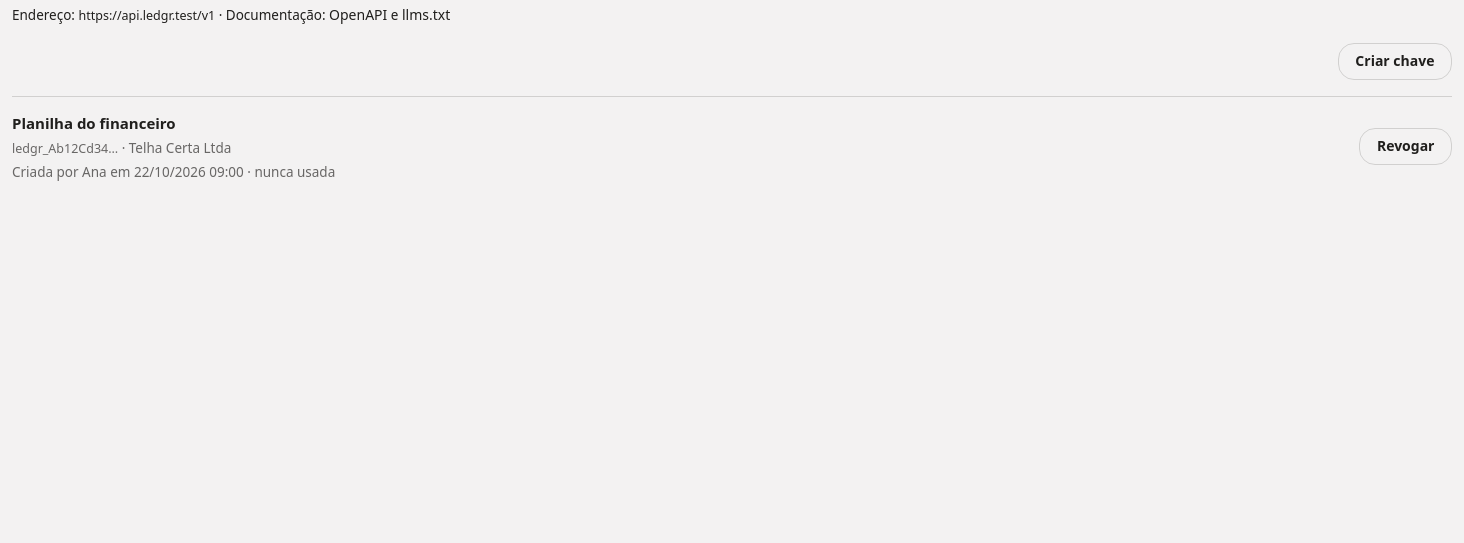
it: PainelDeChavesApi › sem permissão de copiar, deixa a chave selecionada e diz para usar Ctrl+C
Click the button "Criar chave": [1395, 61] box top-left (1338, 43), bottom-right (1452, 80)
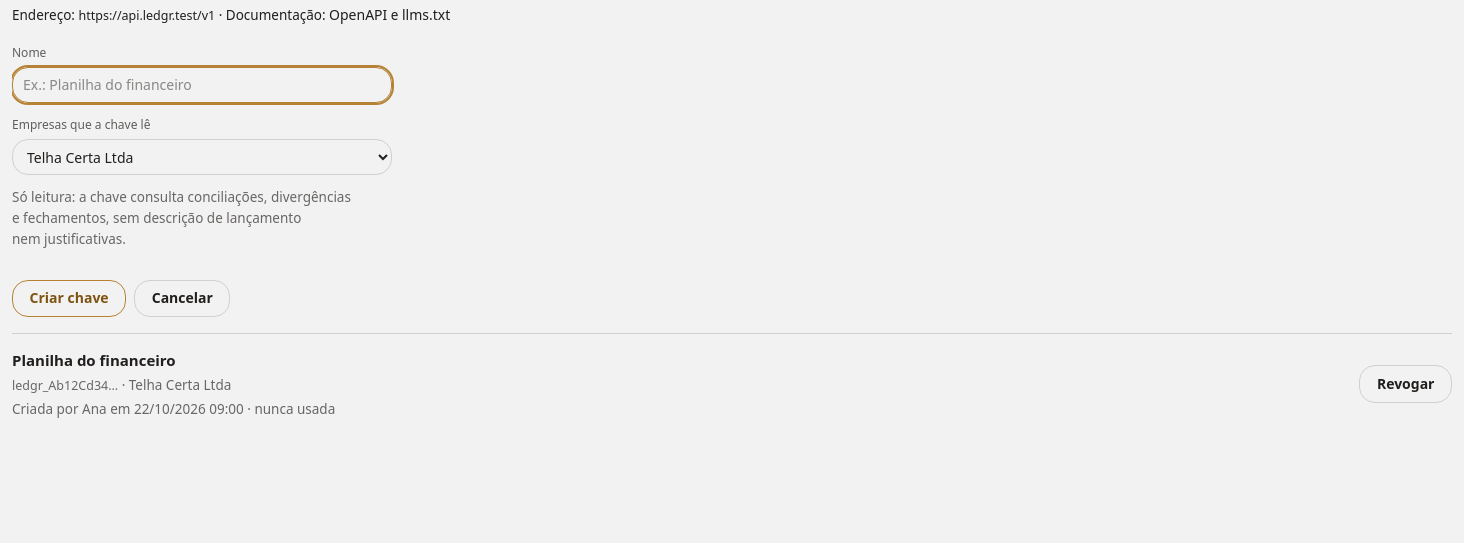
In the field labelled "Nome": [202, 85] box top-left (12, 67), bottom-right (392, 103), type "Planilha"
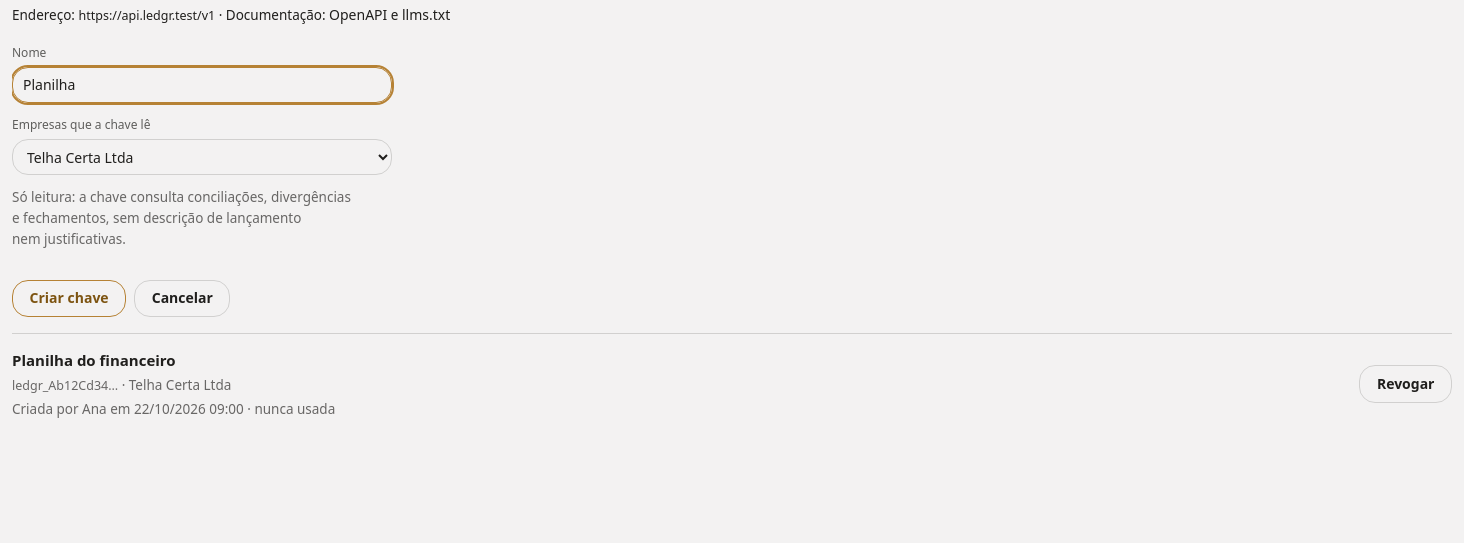
Click the button "Criar chave": [69, 298] box top-left (12, 280), bottom-right (126, 317)
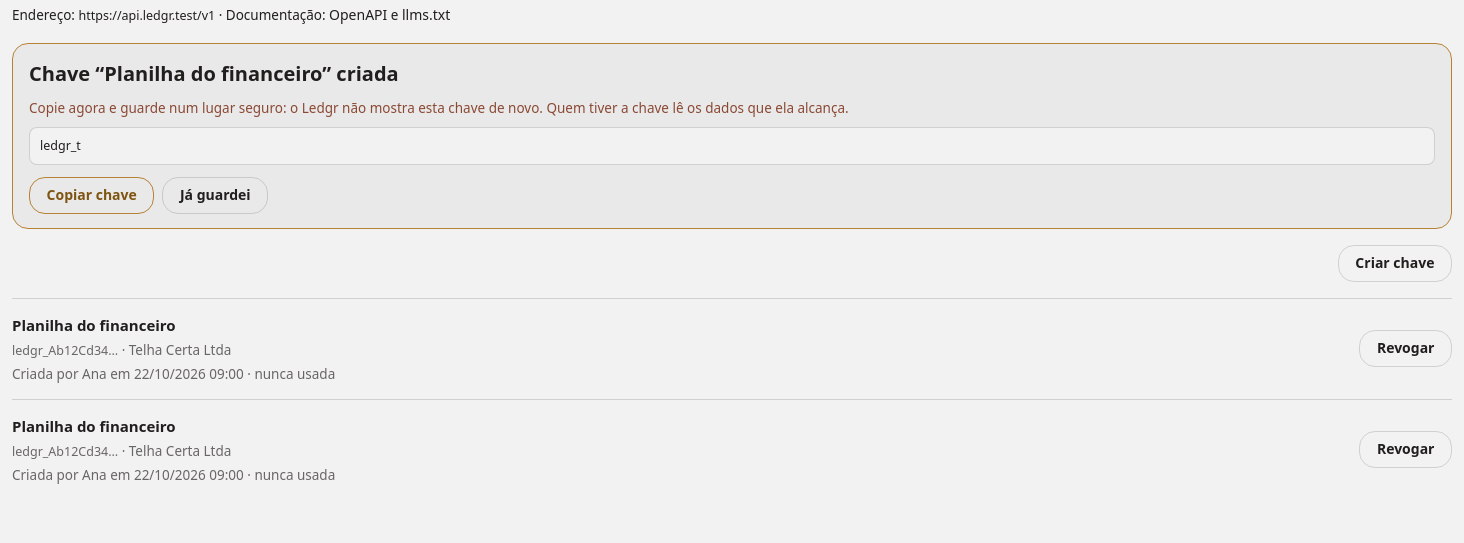
Click the button "Copiar chave": [92, 195] box top-left (29, 176), bottom-right (154, 214)
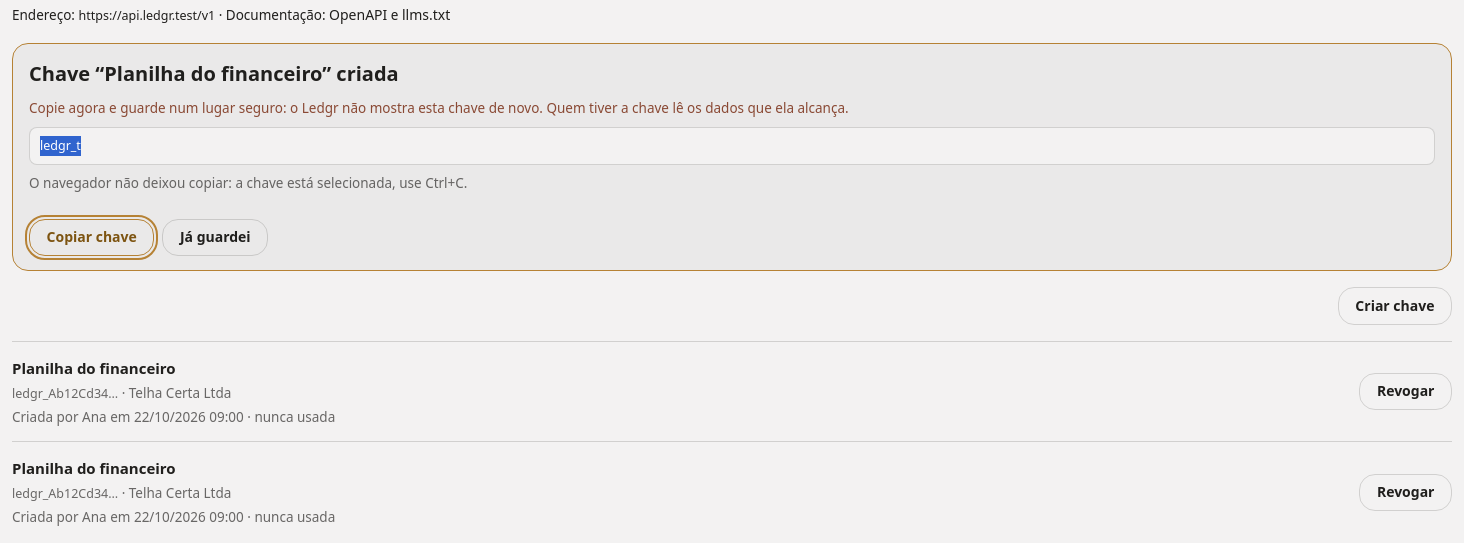
Now the text "ledgr_t" is shown, box top-left (29, 126), bottom-right (1435, 164)
Now the text "use Ctrl+C" is shown, box top-left (29, 174), bottom-right (468, 192)
